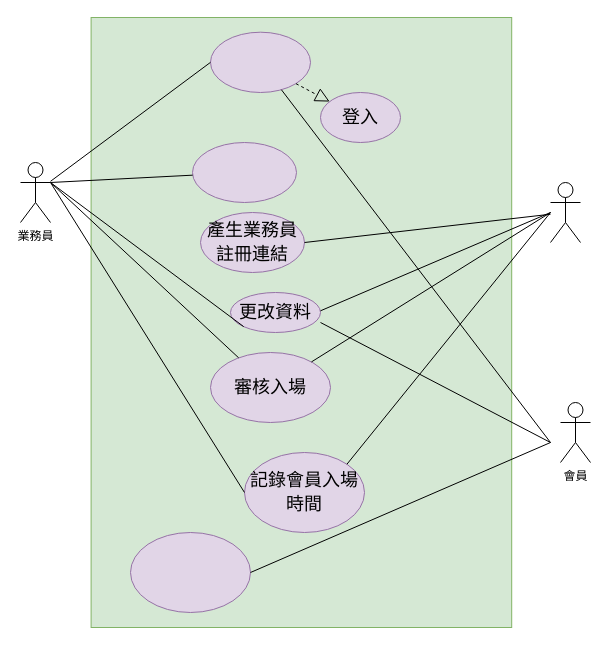
The diagram is 608 pixels wide and 645 high, and some of its shapes have lost their labels. The shapes that lost their labels are listed below. From the top down, each one's box as (x1, y1, x2, y2) in pixels, then its label:
(210, 31, 310, 92): 註冊個人資料
(192, 142, 296, 202): 產生會員註冊連結
(550, 182, 580, 242): 系統人員
(130, 532, 250, 612): 能進行臉部辨識
